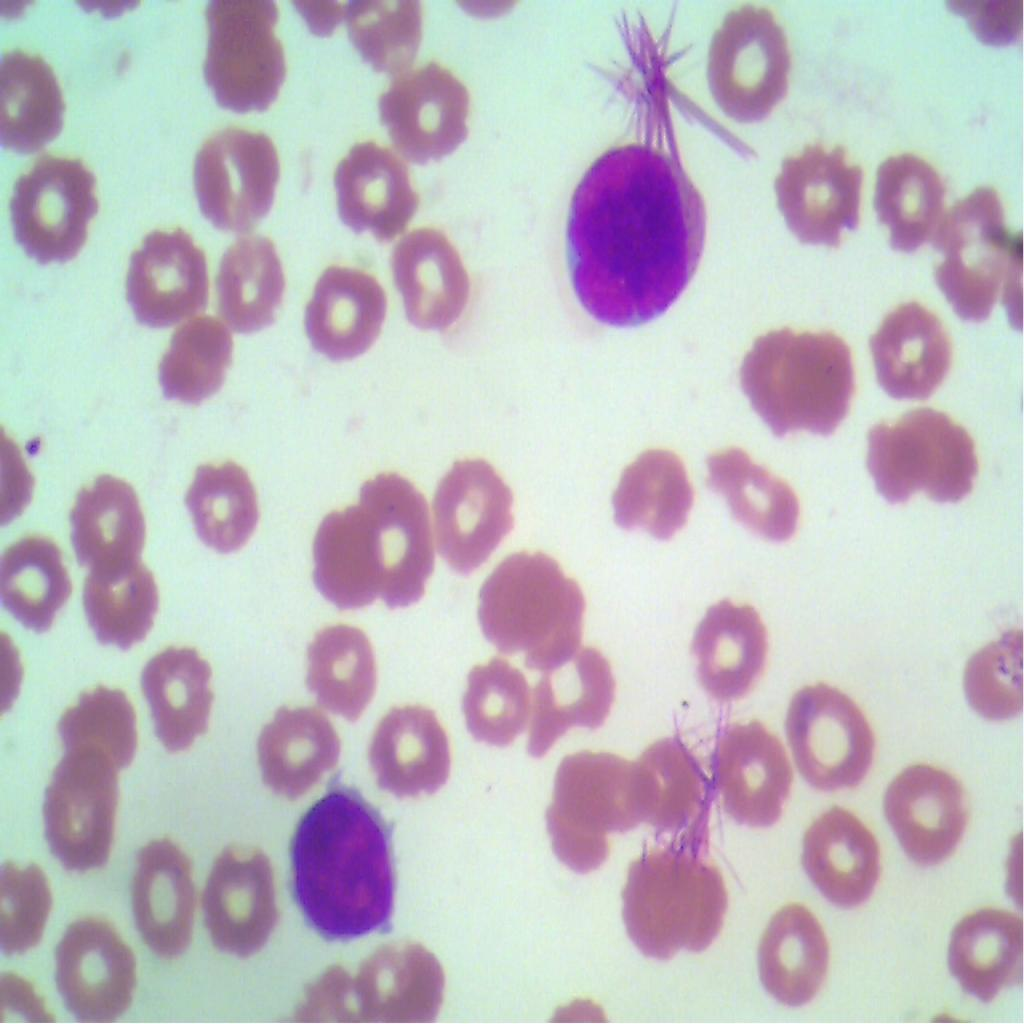Eritrosit: (2, 154, 115, 282), (183, 111, 284, 242), (691, 0, 801, 118), (782, 664, 879, 794), (523, 628, 622, 748), (599, 431, 701, 547), (194, 826, 279, 962), (928, 178, 1016, 308), (483, 541, 579, 660), (626, 728, 718, 850), (359, 475, 442, 610), (43, 748, 128, 879), (544, 741, 650, 845), (713, 432, 811, 544), (192, 0, 286, 115), (368, 67, 474, 168), (766, 132, 862, 242), (119, 215, 206, 334), (939, 889, 1023, 1011), (610, 828, 696, 947), (711, 711, 796, 831), (754, 900, 840, 1018), (50, 914, 142, 1023), (688, 594, 778, 705), (391, 227, 476, 344), (328, 134, 422, 239), (436, 450, 513, 577), (144, 630, 222, 752), (203, 227, 284, 344), (886, 749, 966, 865), (62, 467, 148, 572), (0, 44, 79, 157), (126, 835, 198, 957), (304, 264, 386, 370), (792, 812, 886, 904), (876, 294, 958, 398), (902, 405, 984, 509), (50, 680, 138, 776), (954, 622, 1023, 744), (790, 334, 869, 438), (259, 702, 342, 798), (3, 524, 75, 634), (301, 619, 375, 721), (368, 707, 453, 795), (734, 319, 800, 432), (358, 930, 438, 1023), (155, 314, 233, 408), (660, 852, 726, 962), (178, 459, 254, 548), (314, 503, 379, 604), (89, 561, 161, 652), (864, 145, 934, 237), (463, 655, 526, 744), (870, 417, 922, 498)
Limfoblast: (561, 128, 718, 348), (279, 776, 399, 947)
Platelet: (18, 424, 64, 467)
